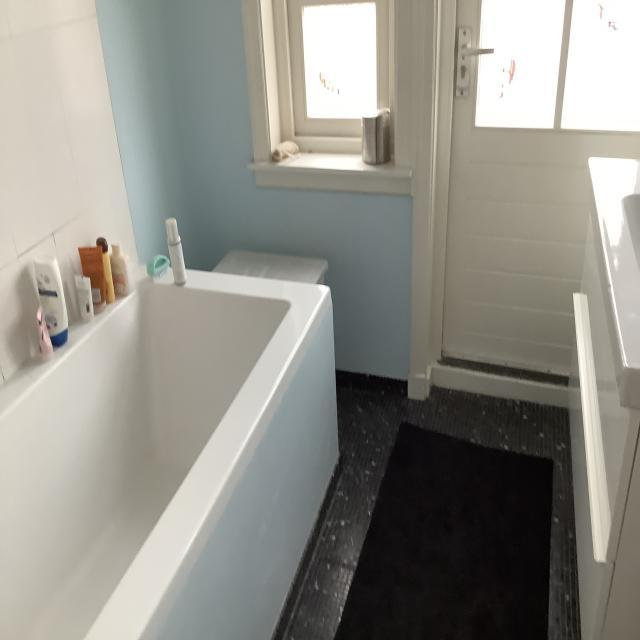bath: (0, 261, 342, 640)
wastafel: (570, 204, 640, 640), (588, 155, 640, 409)
